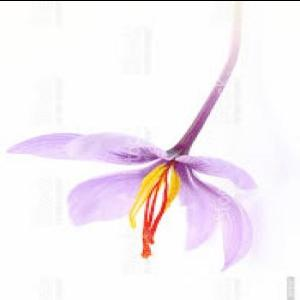Saffron: (7, 125, 260, 266)
